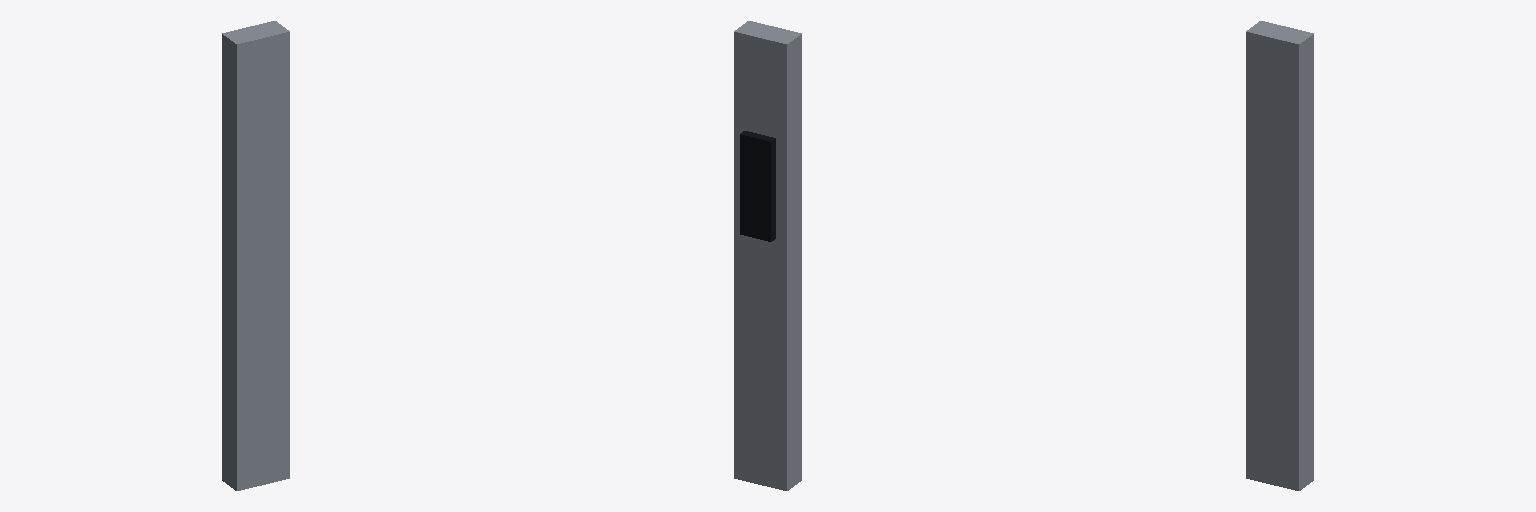
The robot description file, URDF, robot "artmanip_knife_011":
<?xml version='1.0' encoding='utf-8'?>
<robot name="artmanip_knife_011"><link name="link_0"><inertial><mass value="0.029" /><inertia ixx="5.1287280099464055e-05" iyy="5.1893346316180885e-05" izz="9.904690795859186e-07" ixy="0" ixz="0" iyz="0" /></inertial><visual><geometry><box size="0.018174642981663013 0.008918050616614702 0.14540560915239042" /></geometry><material name="link_0_color"><color rgba=".58 .60 .64 1" /></material></visual><collision><geometry><box size="0.018174642981663013 0.008918050616614702 0.14540560915239042" /></geometry></collision></link><link name="link_1"><inertial><mass value="0.006" /><inertia ixx="5.379511701088365e-07" iyy="5.909789443809612e-07" izz="6.15304021926633e-08" ixy="0" ixz="0" iyz="0" /></inertial><visual><geometry><box size="0.010703185341980587 0.002915926597248037 0.03267108373312912" /></geometry><material name="link_1_color"><color rgba=".12 .13 .15 1" /></material></visual><collision><geometry><box size="0.010703185341980587 0.002915926597248037 0.03267108373312912" /></geometry></collision></link><joint name="slider" type="prismatic"><parent link="link_0" /><child link="link_1" /><origin xyz="0.0 0.0059169886069313695 0.025051812276073972" /><axis xyz="0 0 1" /><limit lower="-0.04686265364893254" upper="0.003137346351067466" effort="100" velocity="1" /><dynamics damping="1000" friction="0.001" /></joint></robot>

--- Render facts (derived) ---
3 views of the same robot in one strip: view 1: azimuth 30°, elevation 25°; view 2: azimuth 150°, elevation 25°; view 3: azimuth 330°, elevation 25° (orthographic).
Robot: artmanip_knife_011 — 2 links, 1 joints (1 prismatic); root link link_0; default pose: every joint at zero.
Visible links, largest first — view 1: link_0; view 2: link_0, link_1; view 3: link_0.
Link boxes in pixels (x1=…): link_0: x1=222, y1=21, x2=289, y2=490; link_0: x1=734, y1=21, x2=801, y2=490; link_1: x1=740, y1=131, x2=775, y2=241; link_0: x1=1246, y1=21, x2=1313, y2=490.
Bounding box of the posed robot: 0.0182 × 0.0118 × 0.1454 m (x, y, z).
Geometry: primitives only (box / cylinder / sphere), no mesh files.
